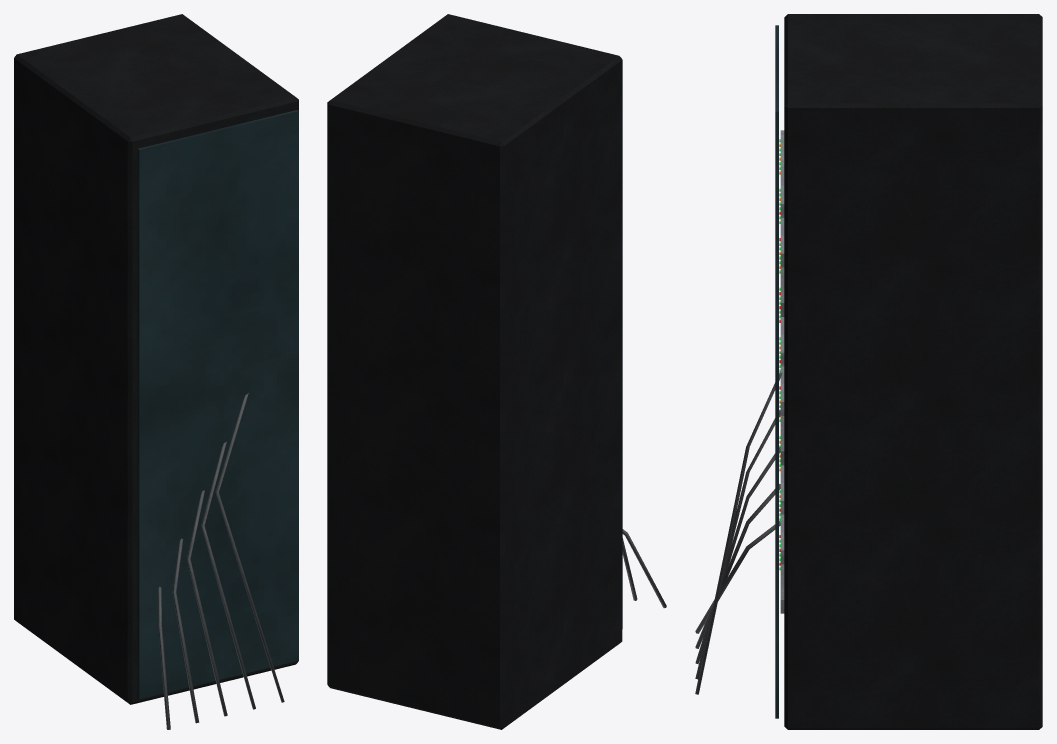
Rendered from Lab_Rack.fbx.
3 views of the same model, side by side, from view 1: azimuth 30°, elevation 25°; view 2: azimuth 150°, elevation 25°; view 3: azimuth 270°, elevation 25° (orthographic). The views are drawn at different scales.
Visible parts, largest first — view 1: Lab_Rack; view 2: Lab_Rack; view 3: Lab_Rack.
Part boxes in pixels (x1,y1,x2,y2): Lab_Rack: (14,14,298,729); Lab_Rack: (327,14,666,729); Lab_Rack: (695,14,1042,729).
Bounding box in the file's own units: 0.6053 × 1.9 × 0.9551.
